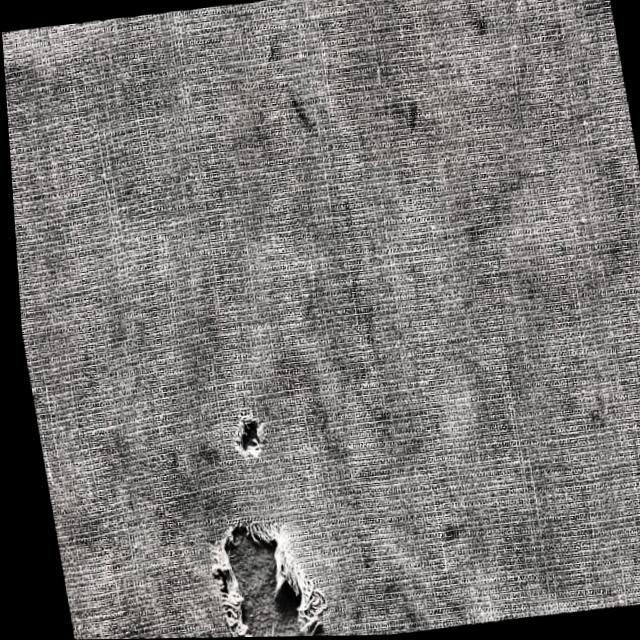Hole: (161, 479, 346, 638), (202, 384, 287, 487)
